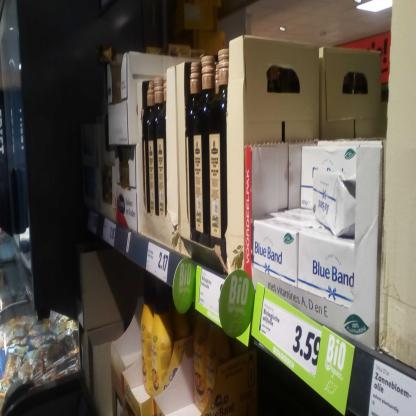prtg: (261, 301, 322, 379), (369, 359, 415, 415), (200, 270, 226, 319), (146, 243, 171, 284), (103, 218, 117, 249)
